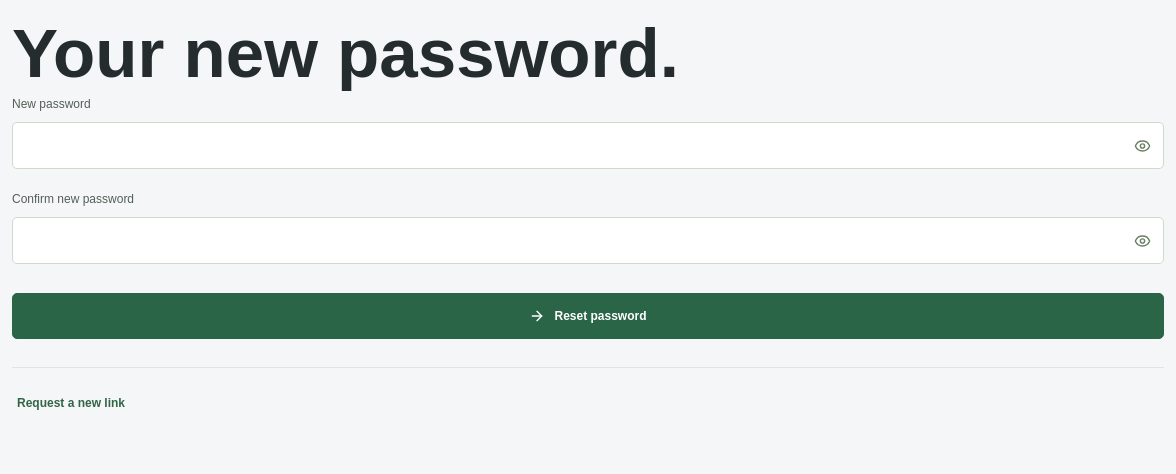
Test case: Single-use password link › displays expired or replayed link errors and offers a fresh link
Type "Secure replacement 2026" into the password field labelled "New password". click: x=588, y=146
box: x1=12 y1=122 x2=1164 y2=169
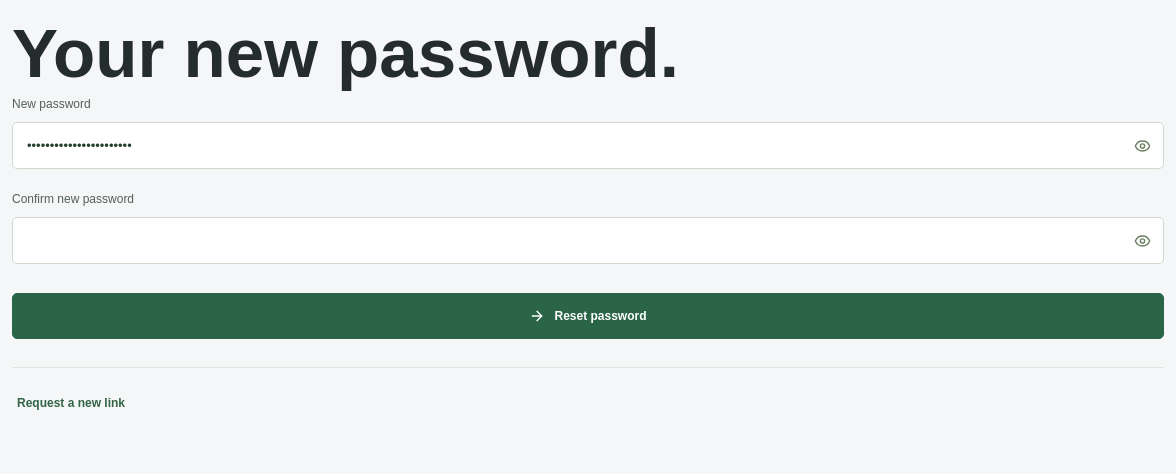
Type "Secure replacement 2026" into the password field labelled "Confirm new password". click: x=588, y=241
box: x1=12 y1=217 x2=1164 y2=264
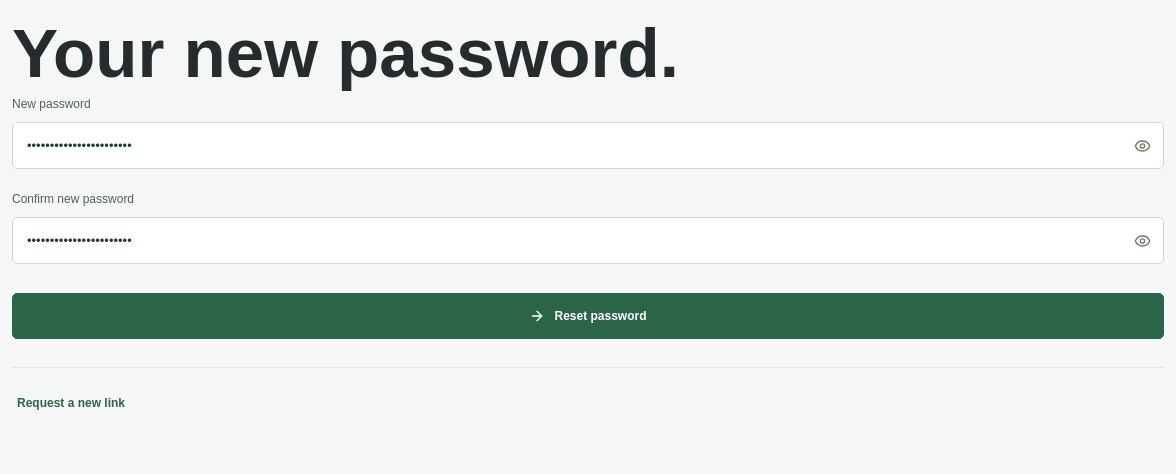
Click the button "Reset password". click: x=588, y=316
box: x1=12 y1=293 x2=1164 y2=339
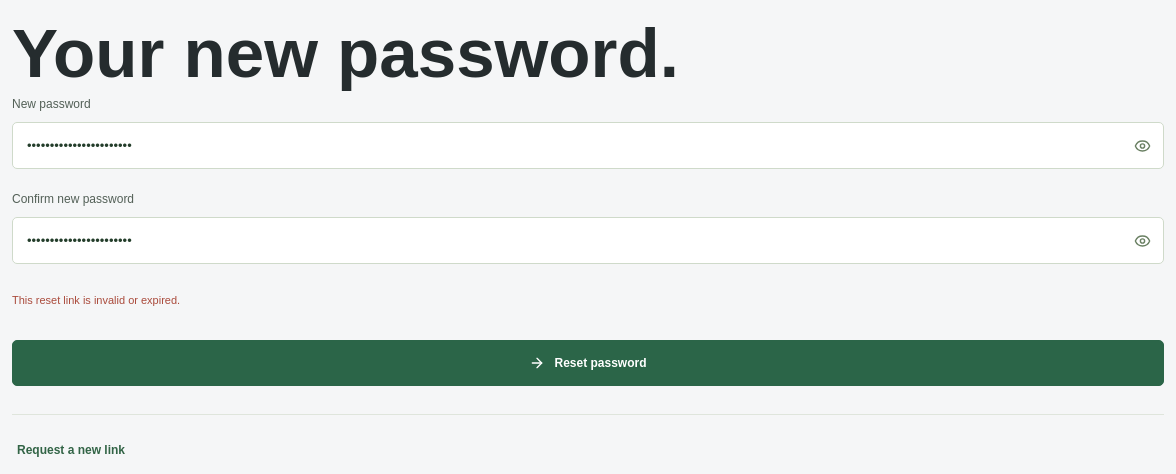
Now the message "This reset link is invalid or expired." is shown, box x1=12 y1=294 x2=180 y2=306
